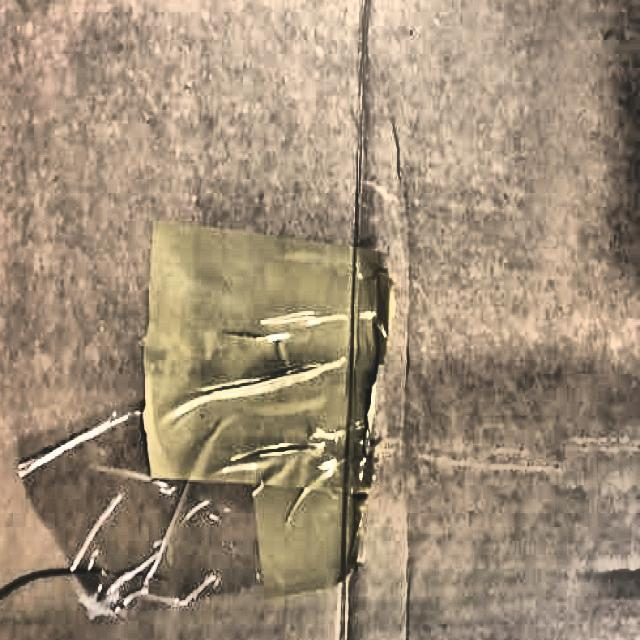cardboard: (140, 216, 393, 594)
